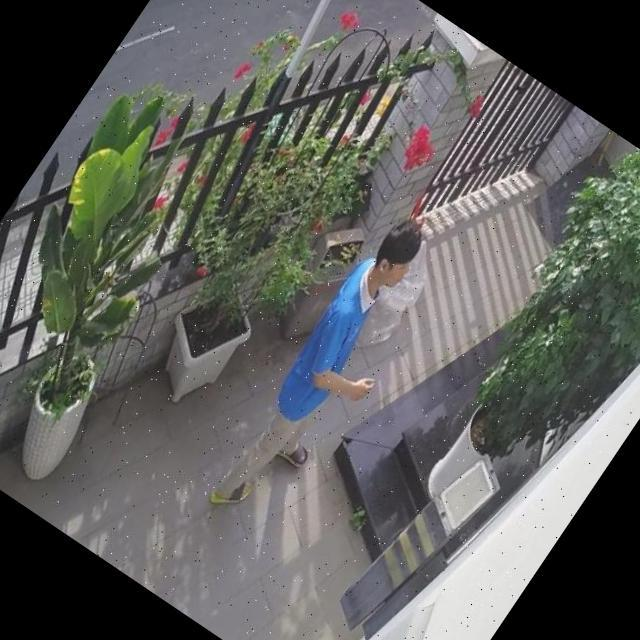person: (201, 211, 458, 540)
